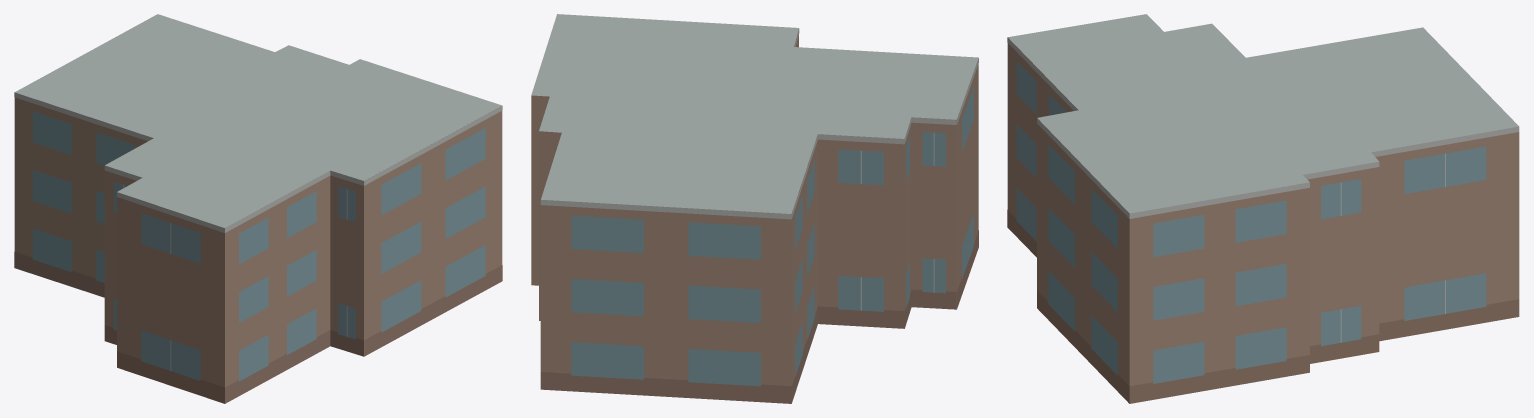
Rendered from survey-upis-32601949.glb.
3 renders of one model, left to right at view 1: azimuth 30°, elevation 25°; view 2: azimuth 150°, elevation 25°; view 3: azimuth 270°, elevation 25°, orthographic. The views are drawn at different scales.
Parts seen in each view (by area): view 1: survey-upis-32601949.tmp; view 2: survey-upis-32601949.tmp; view 3: survey-upis-32601949.tmp.
Boxes of the visible parts, x1,y1,x2,y2 form: survey-upis-32601949.tmp: [14, 14, 502, 403]; survey-upis-32601949.tmp: [531, 14, 978, 403]; survey-upis-32601949.tmp: [1007, 14, 1519, 403].
Size of the model in its own units: 19.47 by 8.65 by 21.1.
